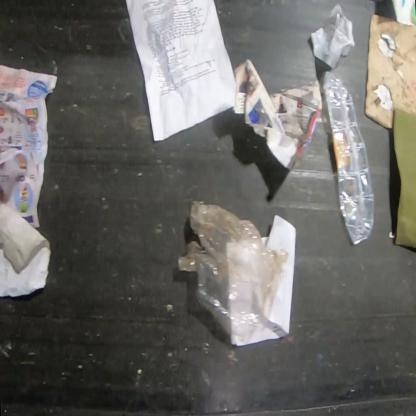cardboard: (364, 14, 416, 131), (392, 107, 415, 249)
rigid_plastic: (324, 71, 376, 246)
soft_plastic: (178, 198, 289, 335)
